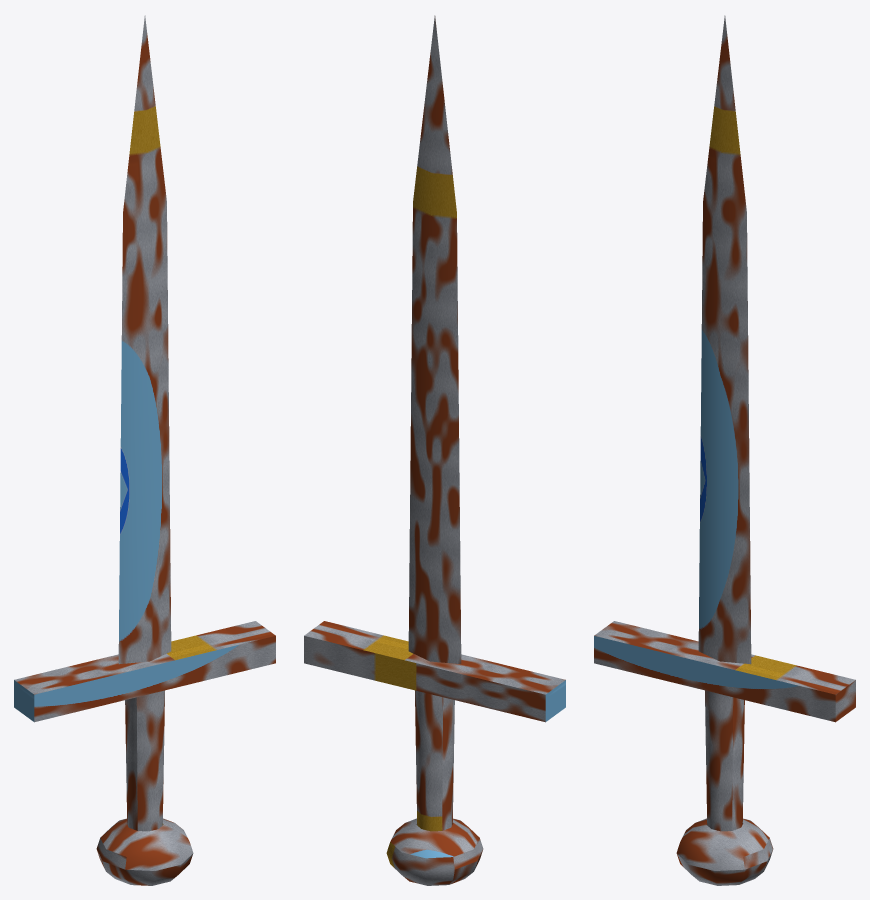
Rendered from polygen_a_rusty_medieval_broadsw_eb67917b_processed.obj.
3 renders of one model, left to right at view 1: azimuth 30°, elevation 25°; view 2: azimuth 150°, elevation 25°; view 3: azimuth 330°, elevation 25°, orthographic.
Visible parts, largest first — view 1: polygen_a_rusty_medieval_broadsw_eb67917b_processed; view 2: polygen_a_rusty_medieval_broadsw_eb67917b_processed; view 3: polygen_a_rusty_medieval_broadsw_eb67917b_processed.
Boxes of the visible parts, x1,y1,x2,y2 form: polygen_a_rusty_medieval_broadsw_eb67917b_processed: (14,15,275,885); polygen_a_rusty_medieval_broadsw_eb67917b_processed: (304,15,565,885); polygen_a_rusty_medieval_broadsw_eb67917b_processed: (594,15,855,885).
Bounding box in the file's own units: 0.5839 × 1.99 × 0.1938.
